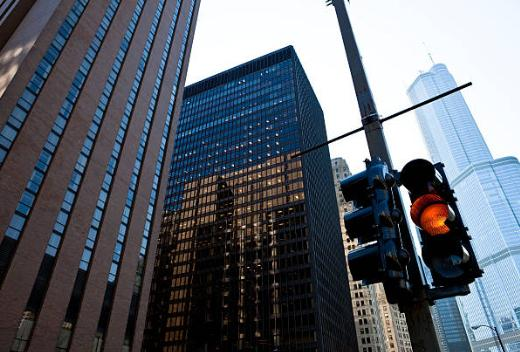yellow_light: (401, 159, 484, 287)
